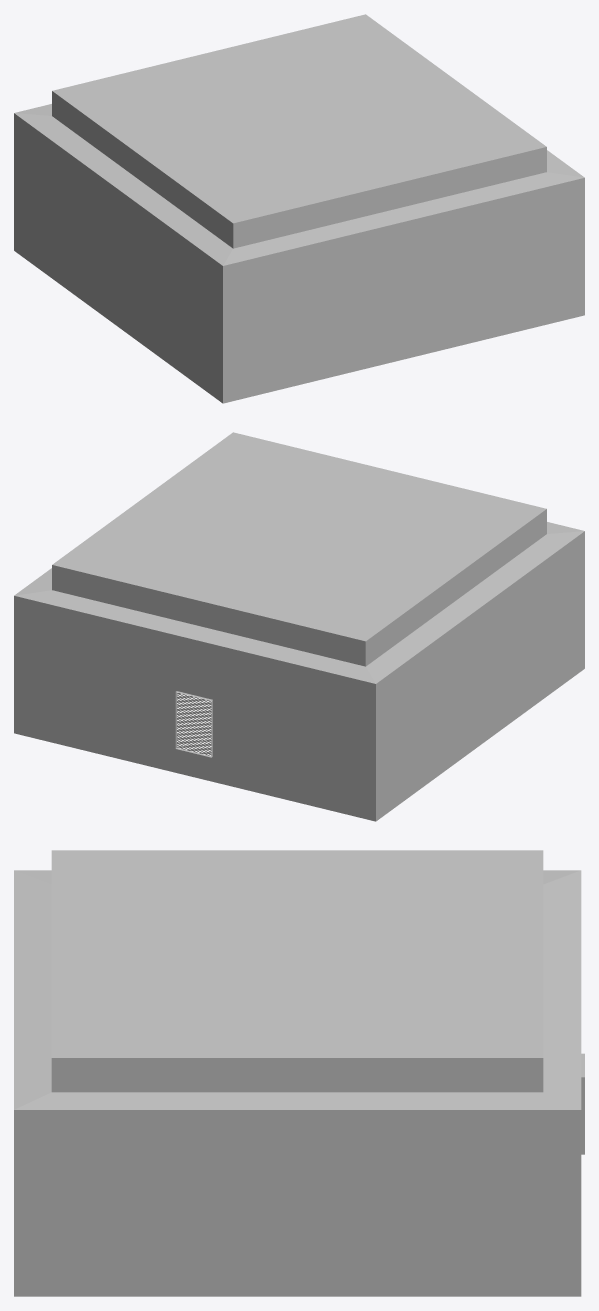
The model's file is Evacuation-Shelter.obj.
3 views of the same model, one above another, from view 1: azimuth 30°, elevation 25°; view 2: azimuth 150°, elevation 25°; view 3: azimuth 270°, elevation 25° (orthographic). The views are drawn at different scales.
Parts seen in each view (by area): view 1: Evacuation-Shelter; view 2: Evacuation-Shelter; view 3: Evacuation-Shelter.
Part boxes in pixels (bbox=[...]): Evacuation-Shelter: bbox=[14, 14, 584, 403]; Evacuation-Shelter: bbox=[14, 432, 584, 821]; Evacuation-Shelter: bbox=[14, 850, 584, 1296].
Size of the model in its own units: 15 by 6.5 by 15.1.
